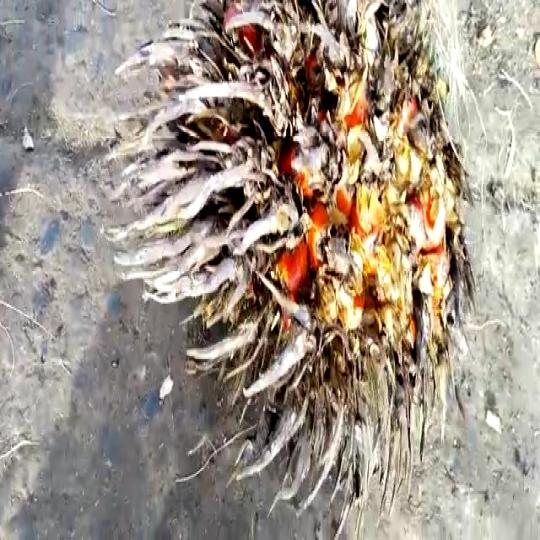terlalu masak: (111, 0, 484, 525)
